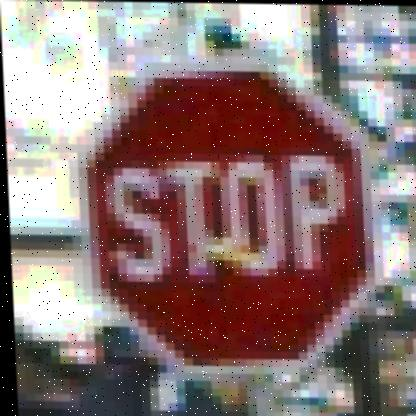Stop Sign: (65, 55, 384, 379)
